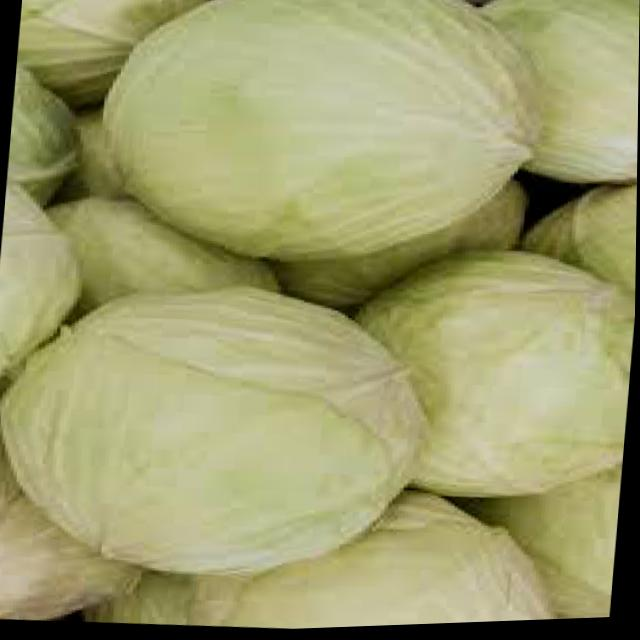Cabbage: (0, 264, 444, 605), (96, 0, 546, 288), (338, 241, 637, 519), (461, 0, 640, 201), (39, 187, 286, 331), (0, 412, 153, 628), (13, 0, 213, 118), (510, 181, 638, 302), (5, 56, 90, 210), (68, 107, 148, 207)
